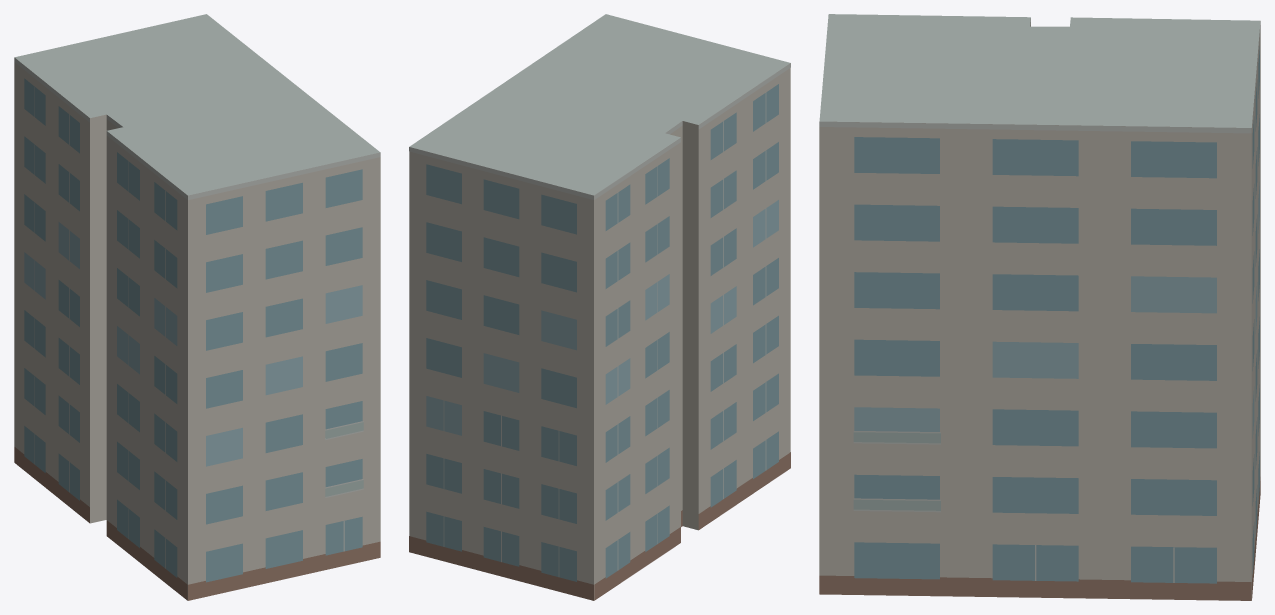
Rendered from survey-upis-33001419.glb.
3 renders of one model, left to right at view 1: azimuth 30°, elevation 25°; view 2: azimuth 150°, elevation 25°; view 3: azimuth 270°, elevation 25°, orthographic. The views are drawn at different scales.
Parts seen in each view (by area): view 1: survey-upis-33001419.tmp; view 2: survey-upis-33001419.tmp; view 3: survey-upis-33001419.tmp.
Part boxes in pixels (bbox=[...]): survey-upis-33001419.tmp: bbox=[14, 14, 380, 600]; survey-upis-33001419.tmp: bbox=[409, 14, 790, 600]; survey-upis-33001419.tmp: bbox=[819, 14, 1260, 600].
Bounding box in the file's own units: 11.05 × 21.35 × 18.06.
